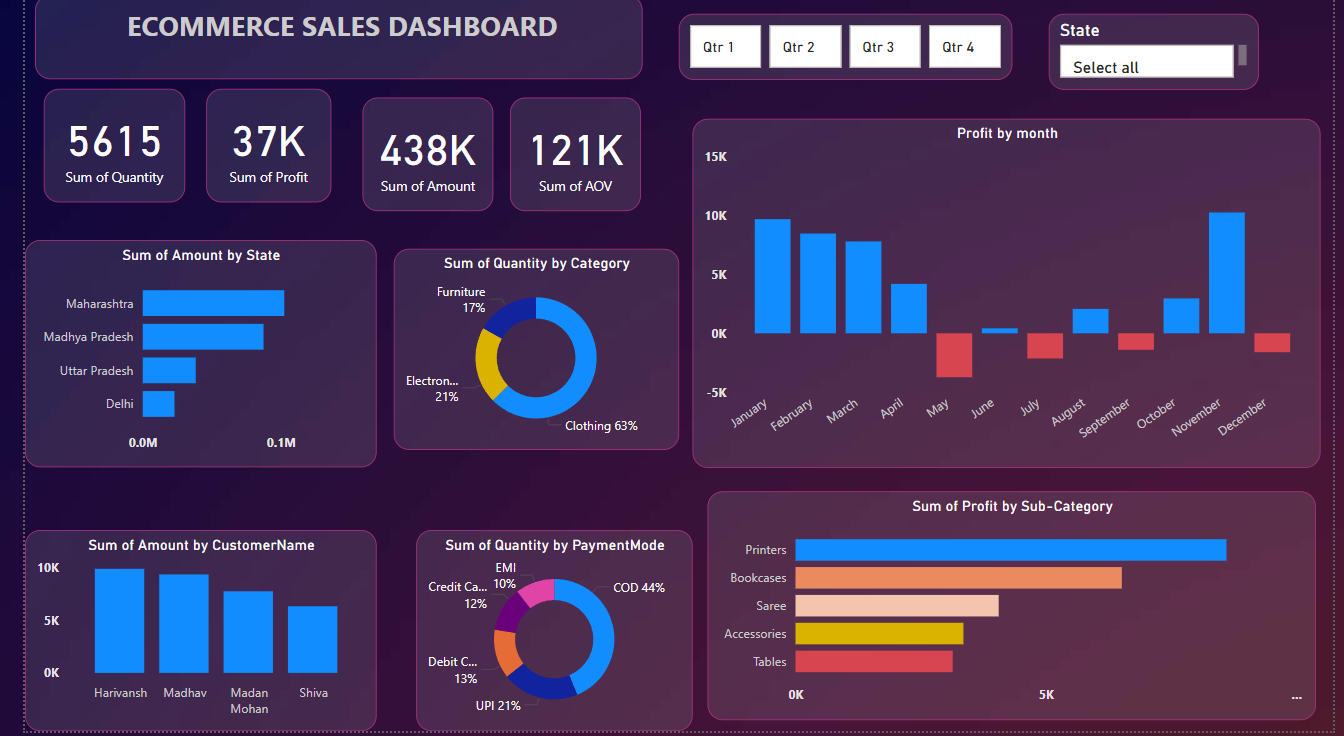

Layout of this report page (visuals, bound fields, positions):
{"tool":"powerbi","page":{"name":"Page 1","canvas":[1280,720],"ordinal":0},"visuals":[{"type":"textbox","box":[9.6,0,573.6,82.3],"z":0},{"type":"columnChart","title":"Profit by month","fields":{"Category":["orders.Order Date.Variation.Date Hierarchy.Month"],"Y":["details.Profit"]},"box":[653.2,120.8,614.8,341.7],"z":1000},{"type":"barChart","fields":{"Category":["details.Sub-Category"],"Y":["details.Profit"]},"box":[668.3,485.8,595.5,223.7],"z":2000},{"type":"donutChart","fields":{"Category":["details.Category"],"Y":["details.Quantity"]},"box":[360.7,248.2,278.8,196.9],"z":3000},{"type":"donutChart","fields":{"Category":["details.PaymentMode","details.Category"],"Y":["details.Quantity"]},"box":[382.7,523.4,270.2,196.9],"z":4000},{"type":"card","fields":{"Values":["details.Amount"]},"box":[330.2,100.3,128.4,111.3],"z":5000},{"type":"card","fields":{"Values":["details.Quantity"]},"box":[18.3,91.7,138.2,111.3],"z":6000},{"type":"card","fields":{"Values":["details.Profit"]},"box":[177.3,91.7,122.3,111.3],"z":7000},{"type":"card","fields":{"Values":["details.AOV"]},"box":[474.5,100.3,128.4,111.3],"z":8000},{"type":"barChart","fields":{"Category":["orders.State"],"Y":["details.Amount"]},"box":[0,239.7,343.6,222.6],"z":9000},{"type":"columnChart","fields":{"Category":["orders.CustomerName"],"Y":["details.Amount"]},"box":[0,523,344,197],"z":10000},{"type":"advancedSlicerVisual","fields":{"Values":["orders.Order Date.Variation.Date Hierarchy.Quarter"]},"box":[639.5,17.8,326.6,64.5],"z":11000},{"type":"advancedSlicerVisual","fields":{"Values":["orders.State"]},"box":[1001.7,17.8,244.3,74.1],"z":12000}]}

Visuals, with their boxes in screenshot pixels (x1, y1, x2, y2), scaled from the page's 1280x720 canvas onto the 1344x736 screenshot:
textbox: [10, 0, 612, 84]
"Profit by month" columnChart: [686, 123, 1331, 473]
barChart - details.Sub-Category x details.Profit: [702, 497, 1327, 725]
donutChart - details.Category x details.Quantity: [379, 254, 671, 455]
donutChart - details.PaymentMode x details.Category: [402, 535, 686, 735]
card - details.Amount: [347, 103, 482, 216]
card - details.Quantity: [19, 94, 164, 208]
card - details.Profit: [186, 94, 315, 208]
card - details.AOV: [498, 103, 633, 216]
barChart - orders.State x details.Amount: [0, 245, 361, 473]
columnChart - orders.CustomerName x details.Amount: [0, 535, 361, 735]
advancedSlicerVisual - orders.Order Date.Variation.Date Hierarchy.Quarter: [671, 18, 1014, 84]
advancedSlicerVisual - orders.State: [1052, 18, 1308, 94]
